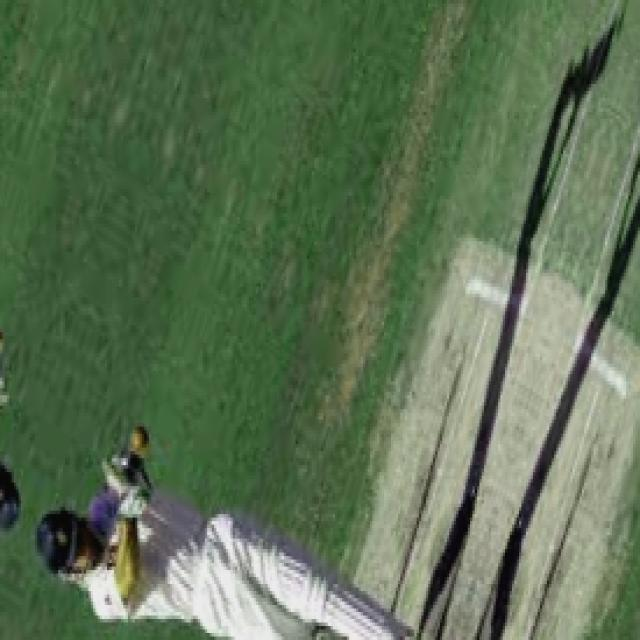toe: (173, 506, 214, 542)
